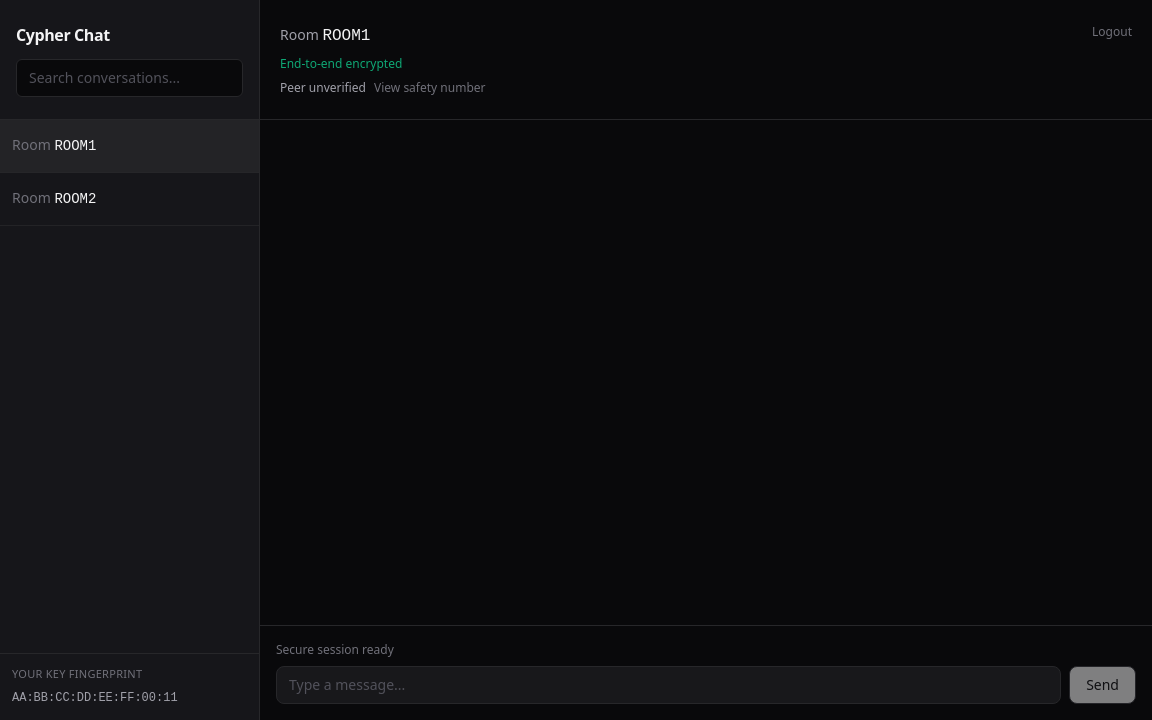
Test case: ChatRoom integration › makes a sending message retryable when the socket closes before server acceptance
Type "retry after close" into the field with placeholder "Type a message..." at (669, 685), box [276,666,1061,704]
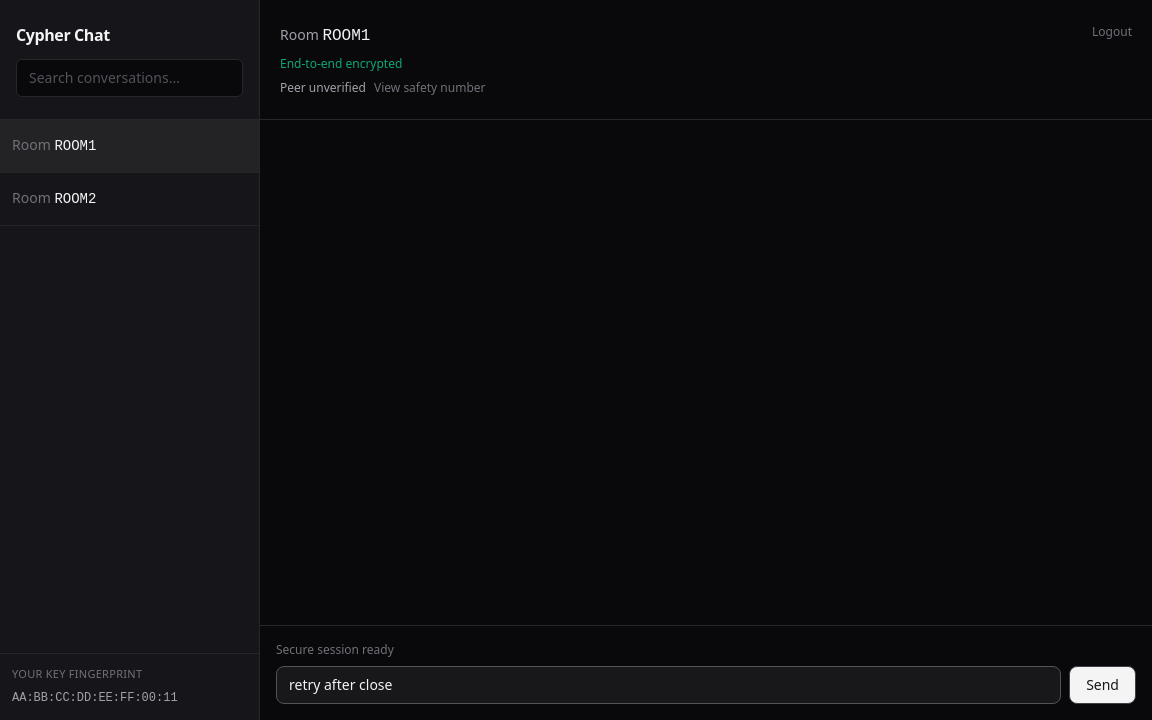
Click the button "Send" at (1103, 685), box [1069,666,1136,704]
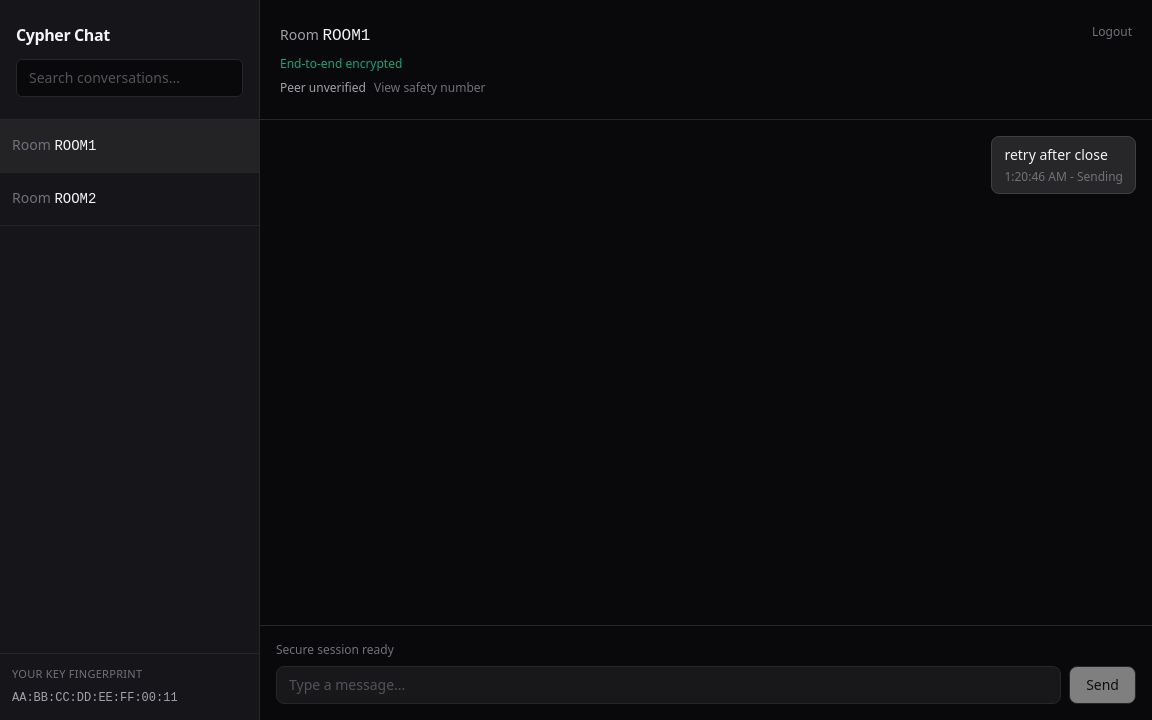
Expected: the text "Waiting for connection" is shown, [1004,169,1123,185]
